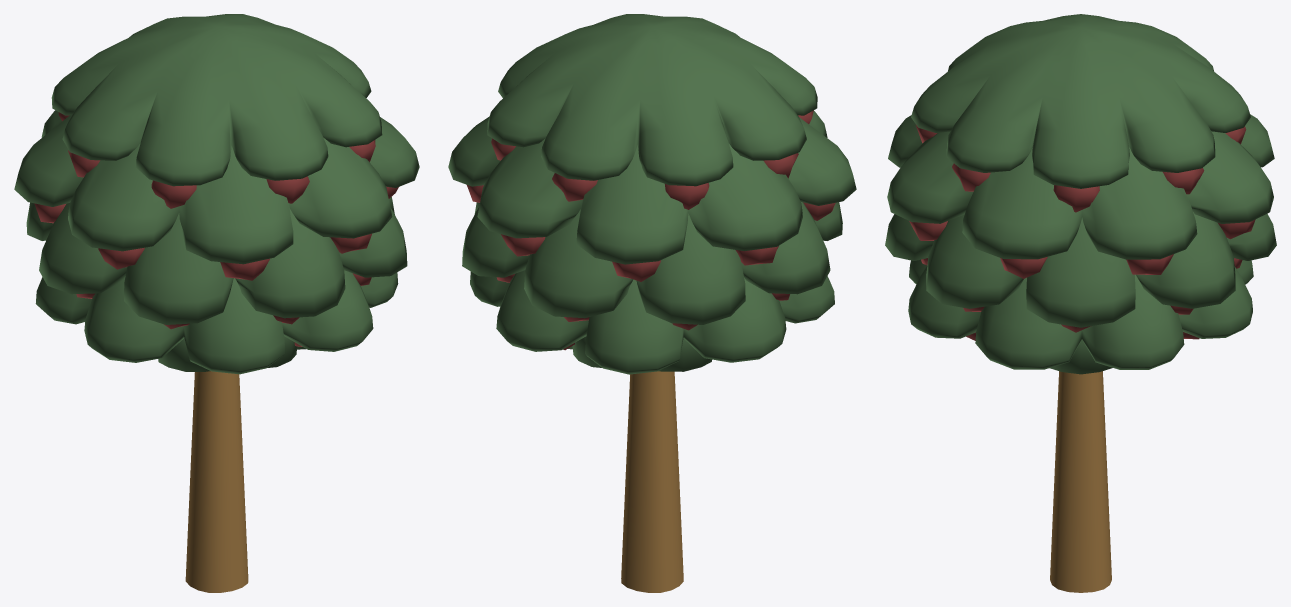
File: tree.glb
3 views of the same model, side by side, from view 1: azimuth 30°, elevation 25°; view 2: azimuth 150°, elevation 25°; view 3: azimuth 270°, elevation 25° (orthographic).
Parts seen in each view (by area): view 1: Tree_Fruit; view 2: Tree_Fruit; view 3: Tree_Fruit.
Part boxes in pixels (x1,y1,x2,y2): Tree_Fruit: [14, 14, 419, 592]; Tree_Fruit: [448, 14, 856, 592]; Tree_Fruit: [885, 14, 1276, 592].
Bounding box in the file's own units: 4.13 × 6.43 × 4.14.
